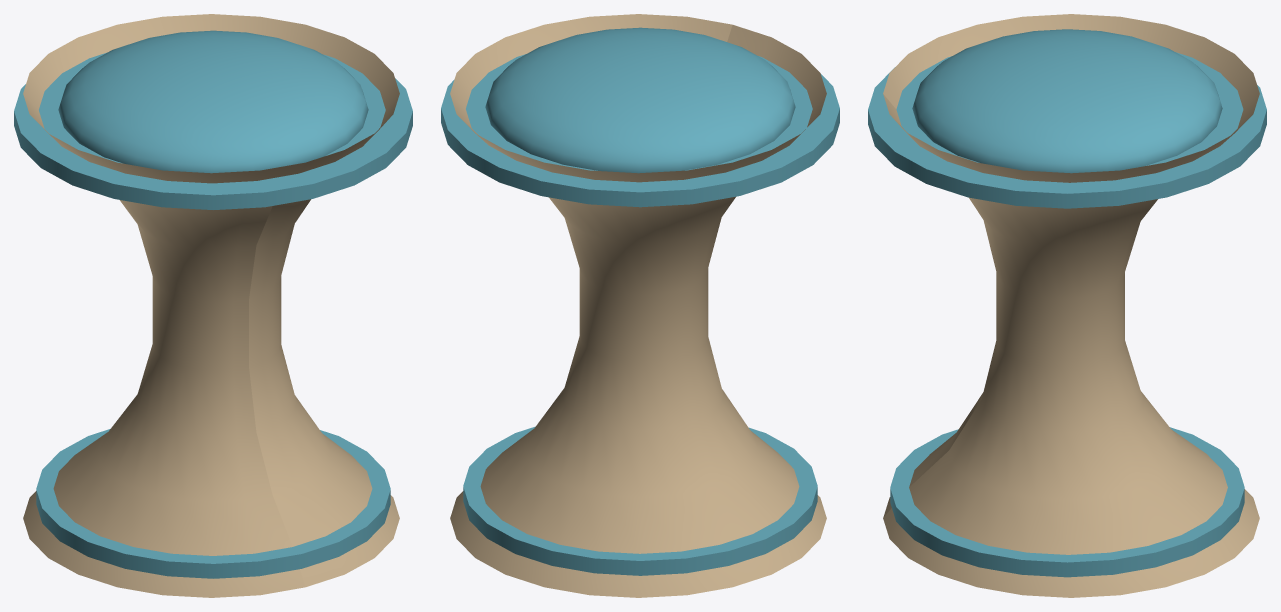
File: left_toe_3_distal.glb
The picture shows the model from 3 angles, left to right: view 1: azimuth 30°, elevation 25°; view 2: azimuth 150°, elevation 25°; view 3: azimuth 270°, elevation 25°; orthographic projection.
Parts seen in each view (by area): view 1: left_toe_3_distal:diaphysis, left_toe_3_distal:proximal-envelope, left_toe_3_distal:proximal-epiphyseal-plate, left_toe_3_distal:distal-epiphyseal-plate; view 2: left_toe_3_distal:diaphysis, left_toe_3_distal:proximal-envelope, left_toe_3_distal:proximal-epiphyseal-plate, left_toe_3_distal:distal-epiphyseal-plate; view 3: left_toe_3_distal:diaphysis, left_toe_3_distal:proximal-envelope, left_toe_3_distal:proximal-epiphyseal-plate, left_toe_3_distal:distal-epiphyseal-plate.
Boxes of the visible parts, x1,y1,x2,y2 form: left_toe_3_distal:diaphysis: (23, 14, 399, 597); left_toe_3_distal:proximal-envelope: (58, 30, 368, 173); left_toe_3_distal:proximal-epiphyseal-plate: (14, 52, 412, 209); left_toe_3_distal:distal-epiphyseal-plate: (36, 429, 390, 578); left_toe_3_distal:diaphysis: (450, 14, 826, 597); left_toe_3_distal:proximal-envelope: (485, 27, 795, 173); left_toe_3_distal:proximal-epiphyseal-plate: (441, 54, 839, 207); left_toe_3_distal:distal-epiphyseal-plate: (463, 426, 817, 575); left_toe_3_distal:diaphysis: (883, 14, 1259, 597); left_toe_3_distal:proximal-envelope: (912, 29, 1222, 173); left_toe_3_distal:proximal-epiphyseal-plate: (868, 52, 1266, 208); left_toe_3_distal:distal-epiphyseal-plate: (890, 427, 1244, 577).
Size of the model in its own units: 0.0225 by 0.03 by 0.0225.
